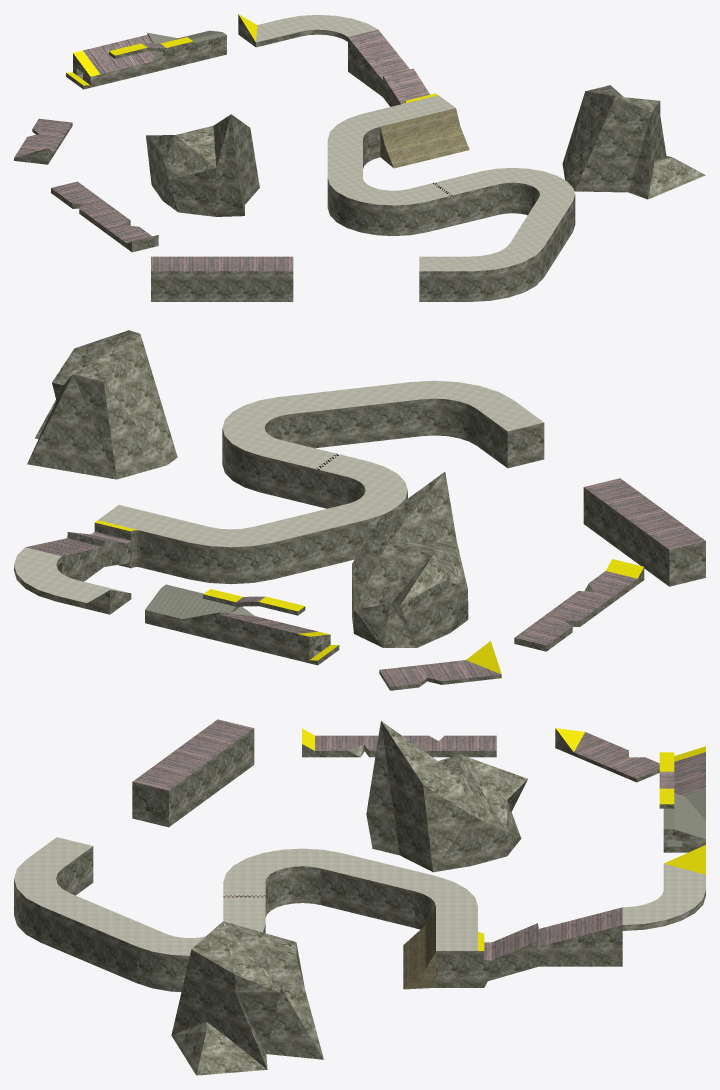
3 renders of one model, top to bottom at view 1: azimuth 30°, elevation 25°; view 2: azimuth 150°, elevation 25°; view 3: azimuth 270°, elevation 25°, orthographic. The views are drawn at different scales.
Visible parts, largest first — view 1: ct_Main-kabe2, ct_Main-yuka3, ct_Main-yuka, ct_Main-kabe, ct_Main-dash, ct_Main-yuka2; view 2: ct_Main-kabe2, ct_Main-yuka3, ct_Main-yuka, ct_Main-dash, ct_Main-yuka2; view 3: ct_Main-kabe2, ct_Main-yuka3, ct_Main-yuka, ct_Main-dash, ct_Main-kabe, ct_Main-yuka2.
Part boxes in pixels (x1,y1,x2,y2): ct_Main-kabe2: [14, 14, 705, 301]; ct_Main-yuka3: [256, 15, 574, 271]; ct_Main-yuka: [14, 29, 429, 271]; ct_Main-kabe: [380, 108, 469, 168]; ct_Main-dash: [66, 14, 437, 103]; ct_Main-yuka2: [77, 30, 226, 79]; ct_Main-kabe2: [14, 330, 705, 690]; ct_Main-yuka3: [14, 380, 543, 602]; ct_Main-yuka: [26, 478, 705, 686]; ct_Main-dash: [95, 520, 643, 674]; ct_Main-yuka2: [145, 584, 320, 656]; ct_Main-kabe2: [14, 721, 705, 1075]; ct_Main-yuka3: [14, 837, 705, 955]; ct_Main-yuka: [133, 719, 705, 960]; ct_Main-dash: [302, 728, 705, 950]; ct_Main-kabe: [403, 907, 435, 989]; ct_Main-yuka2: [663, 787, 705, 846].
Size of what is drawn, in the model's own units: 71916 by 12983 by 65805.
Materials: 9 (9 with a texture image).
